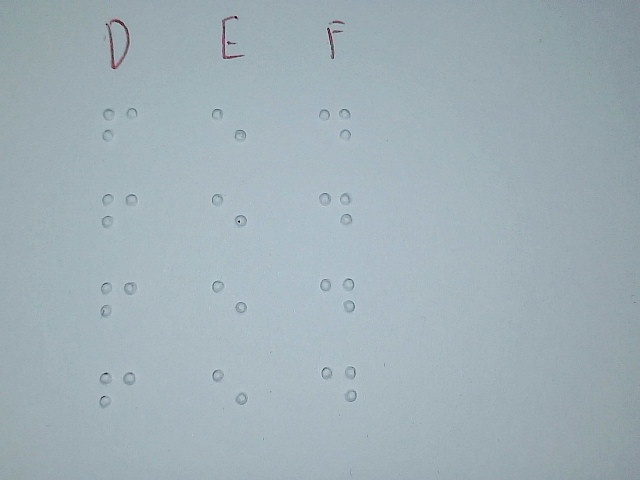D: (316, 97, 356, 164), (315, 182, 355, 249), (318, 265, 358, 332), (319, 356, 359, 423)
E: (208, 98, 251, 170), (208, 181, 251, 253), (207, 268, 250, 340), (208, 358, 251, 430)
F: (100, 98, 141, 168), (100, 181, 141, 251), (98, 271, 139, 341), (97, 362, 138, 432)
